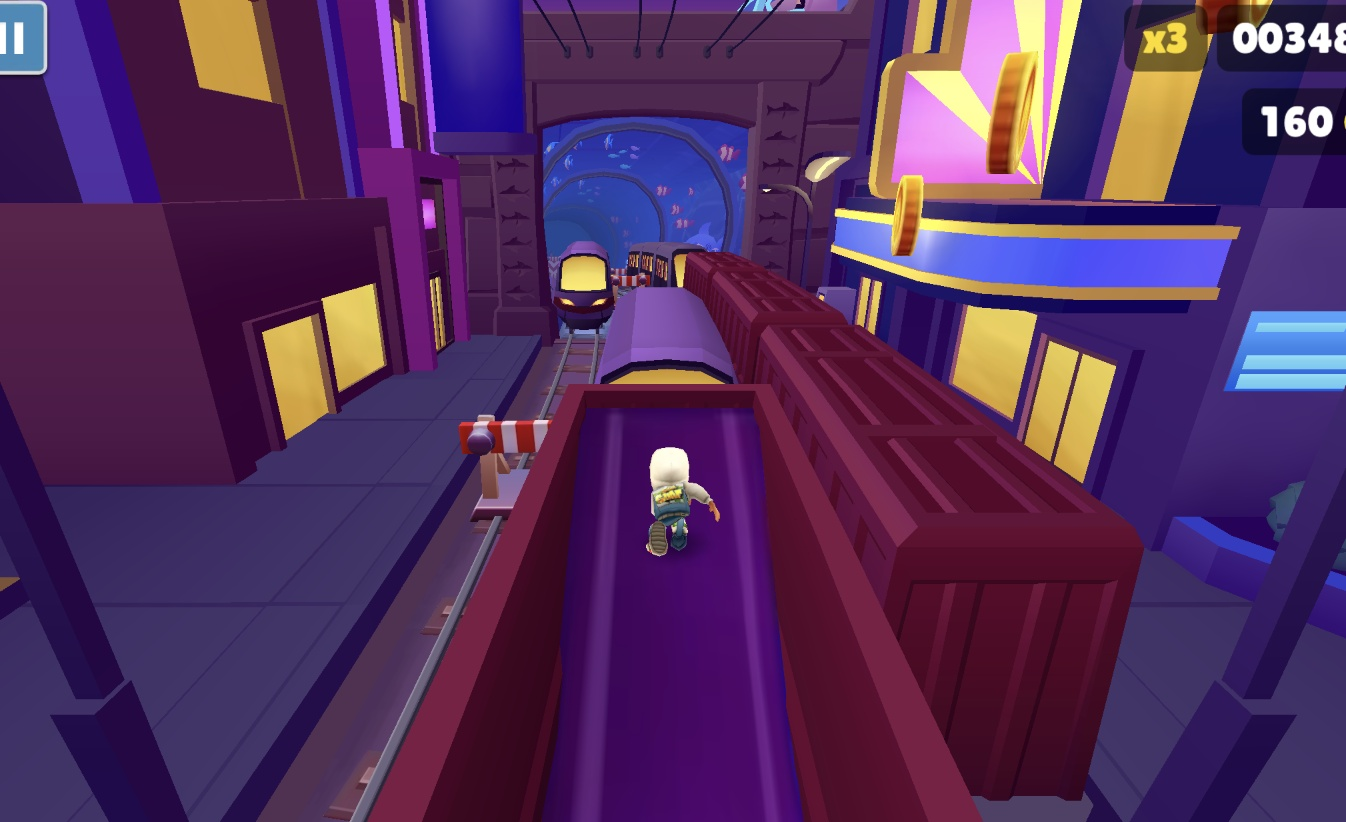ground_barrier: (458, 420, 552, 521), (612, 276, 650, 298)
train: (364, 388, 981, 822), (682, 250, 1148, 822), (589, 283, 738, 386), (549, 242, 617, 332), (626, 242, 700, 286)
